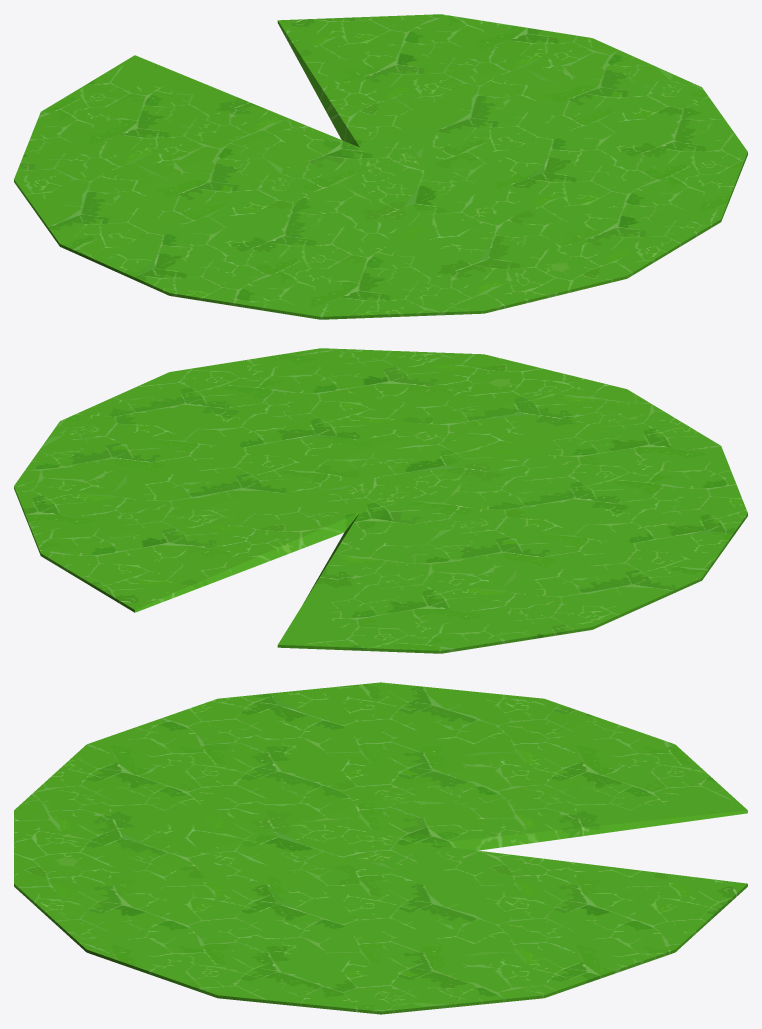
The model's file is lillypad03.fbx.
The picture shows the model from 3 angles, top to bottom: view 1: azimuth 30°, elevation 25°; view 2: azimuth 150°, elevation 25°; view 3: azimuth 270°, elevation 25°; orthographic projection. The views are drawn at different scales.
Visible parts, largest first — view 1: pCylinder1; view 2: pCylinder1; view 3: pCylinder1.
Part boxes in pixels (bbox=[...]): pCylinder1: bbox=[14, 14, 747, 319]; pCylinder1: bbox=[14, 348, 747, 653]; pCylinder1: bbox=[14, 682, 747, 1014].
Size of the model in its own units: 16.42 by 0.217 by 15.47.
Materials: 1 (1 with a texture image).
